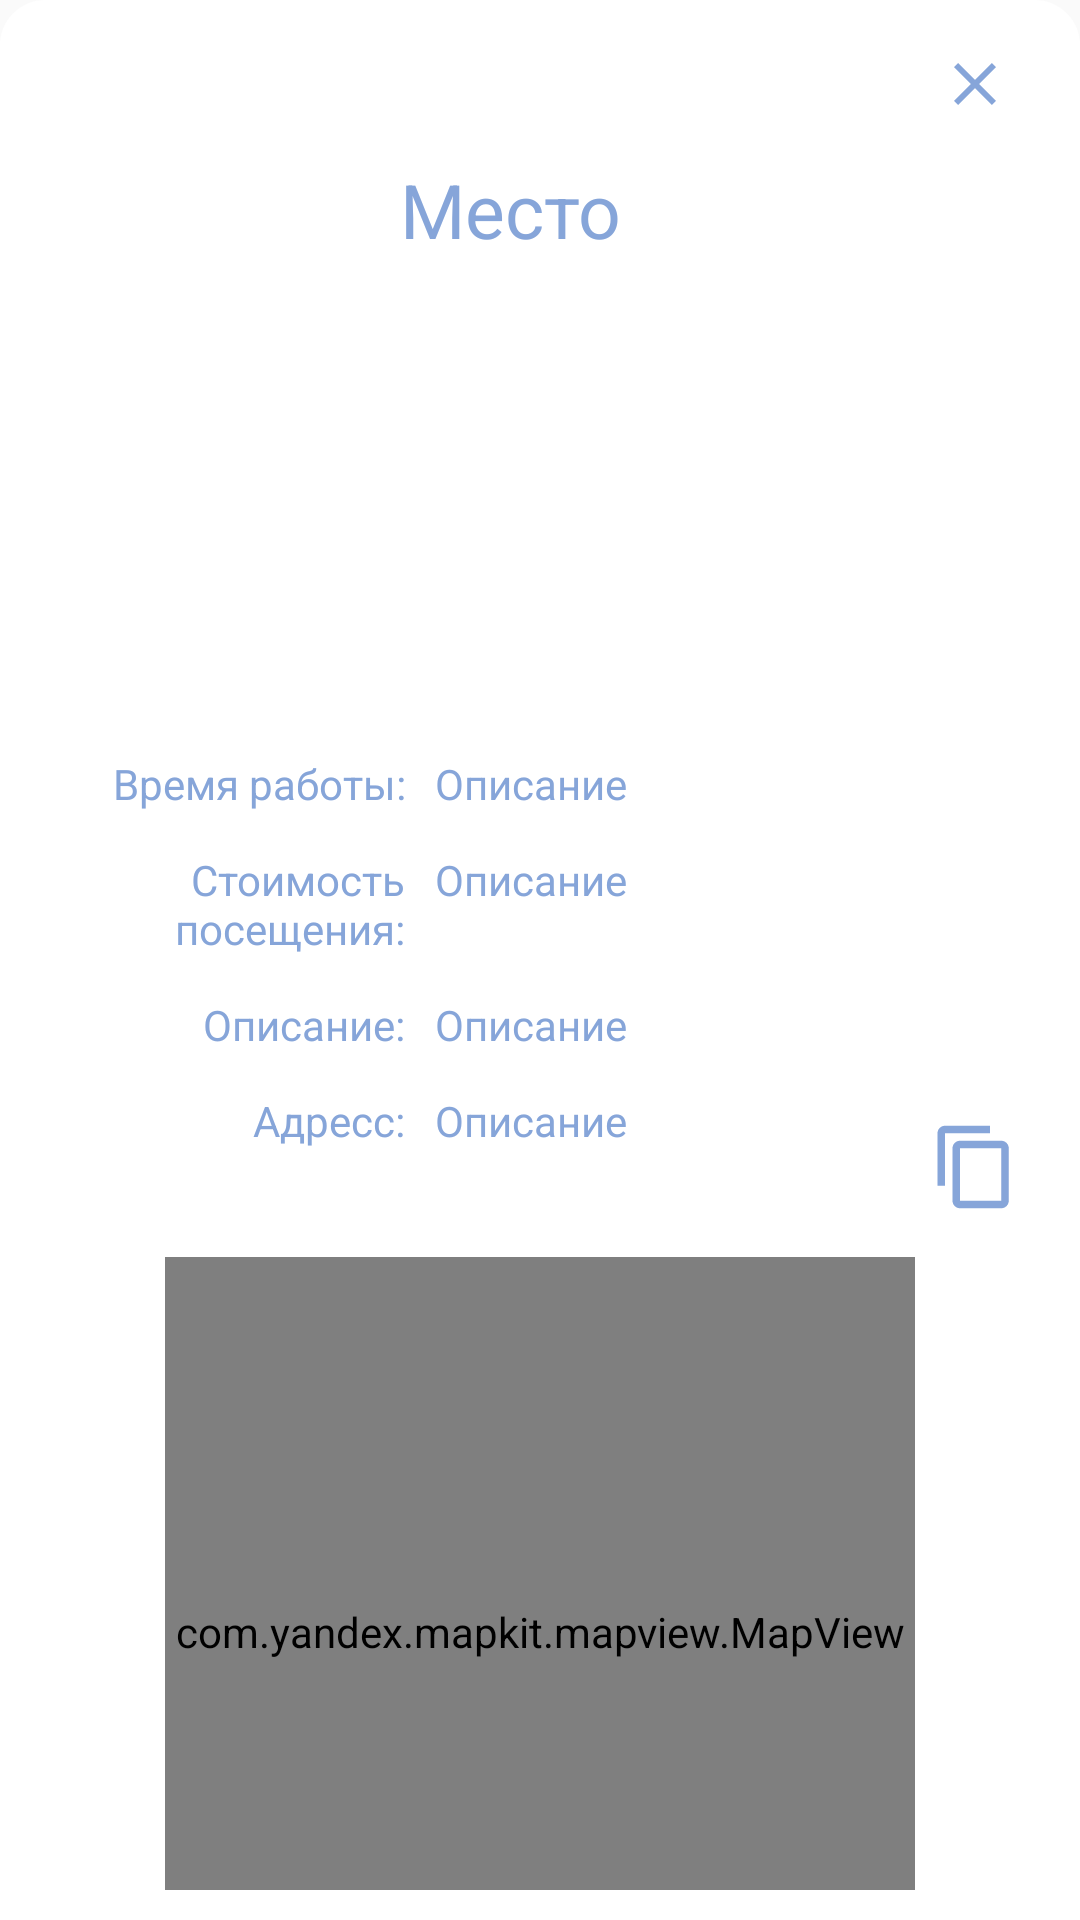

Locate icon controls on the screen. Image size 1080w x 1920h, boxes as (x1, y1, x2, y2).
close: (954, 63, 996, 105)
